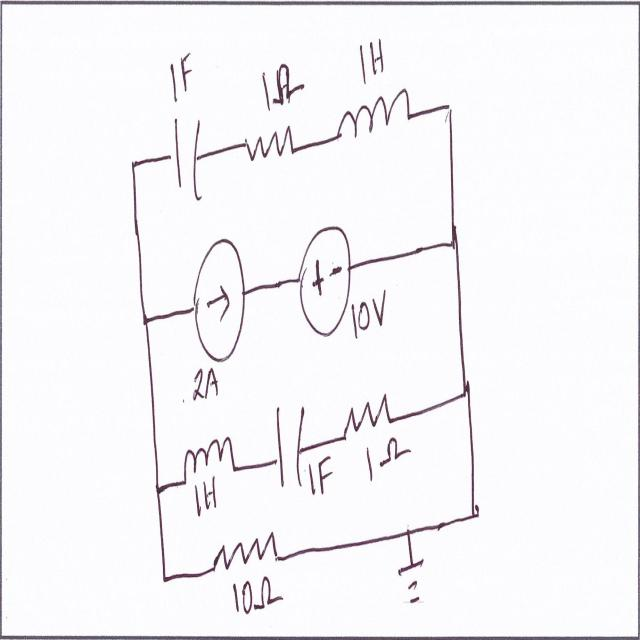capacitor: (172, 113, 206, 210), (274, 396, 304, 496)
current_source: (190, 232, 248, 365)
ground: (396, 554, 428, 616)
inductor: (334, 82, 410, 134), (178, 436, 244, 484)
resistor: (208, 527, 282, 575), (240, 118, 295, 172), (336, 390, 396, 438)
voltage_source: (296, 206, 353, 339)
